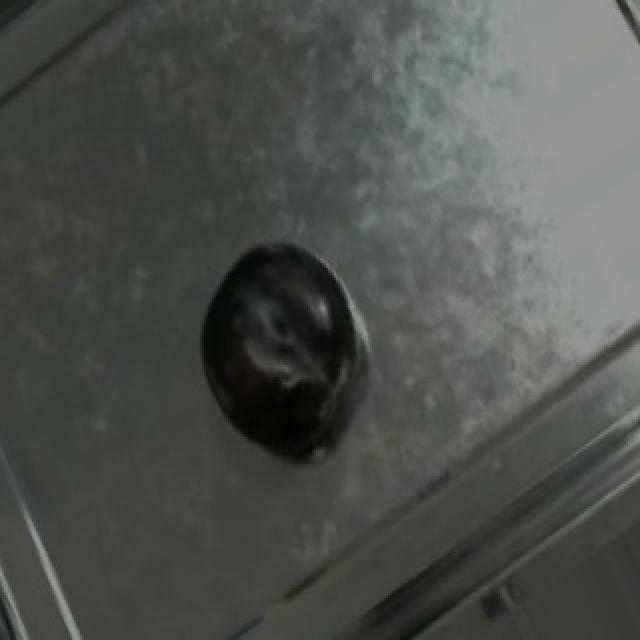Fruit: (180, 250, 356, 474)
